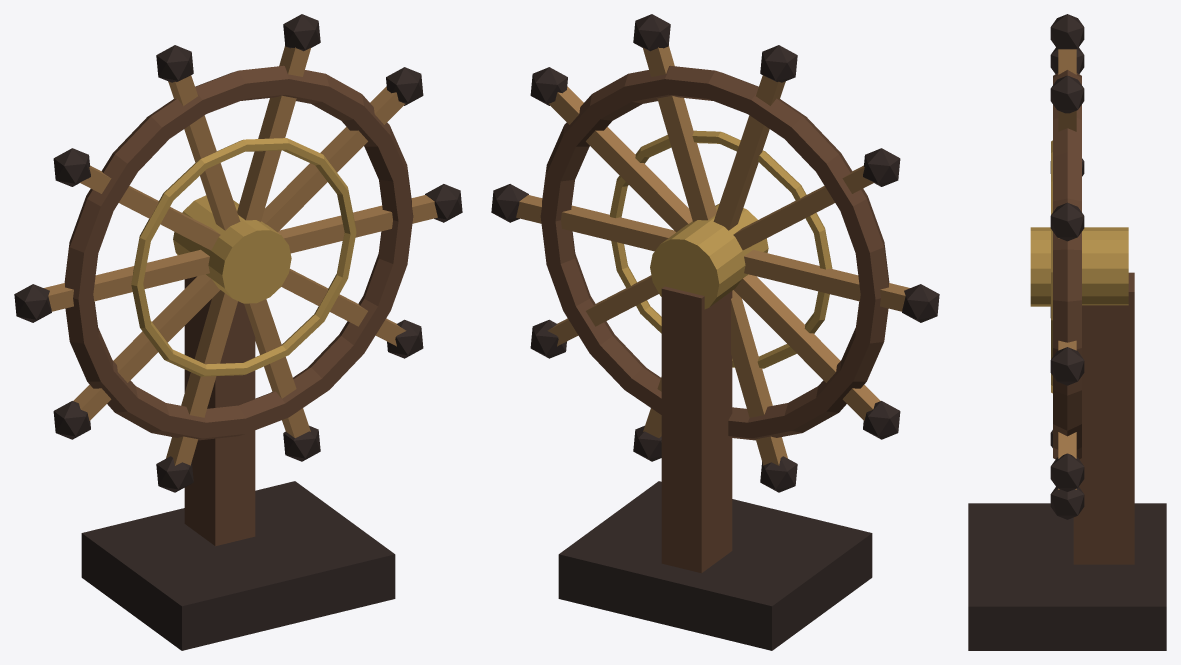
Rendered from PirateCove_ShipWheel_Showcase.glb.
3 views of the same model, side by side, from view 1: azimuth 30°, elevation 25°; view 2: azimuth 150°, elevation 25°; view 3: azimuth 270°, elevation 25° (orthographic).
Parts seen in each view (by area): view 1: PirateCove_ShipWheel_Showcase; view 2: PirateCove_ShipWheel_Showcase; view 3: PirateCove_ShipWheel_Showcase.
Part boxes in pixels (<box>): PirateCove_ShipWheel_Showcase: <box>14,14,462,650</box>; PirateCove_ShipWheel_Showcase: <box>491,14,939,650</box>; PirateCove_ShipWheel_Showcase: <box>968,14,1166,650</box>.
Bounding box in the file's own units: 1.67 × 2 × 0.65.
